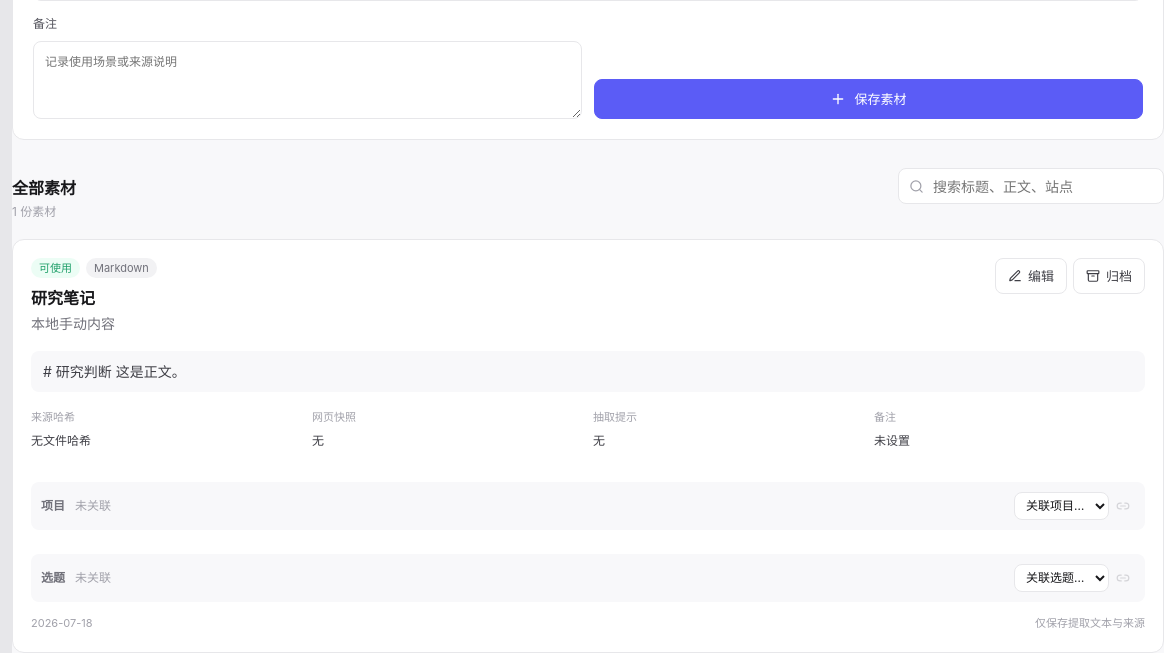
MaterialWorkspace › links a material to both contexts and archives it explicitly
The image size is (1164, 653).
(page scrolled)
Select "创作项目" in the dropdown named "为 研究笔记 选择项目" at (1062, 506), box [1014, 492, 1109, 520]
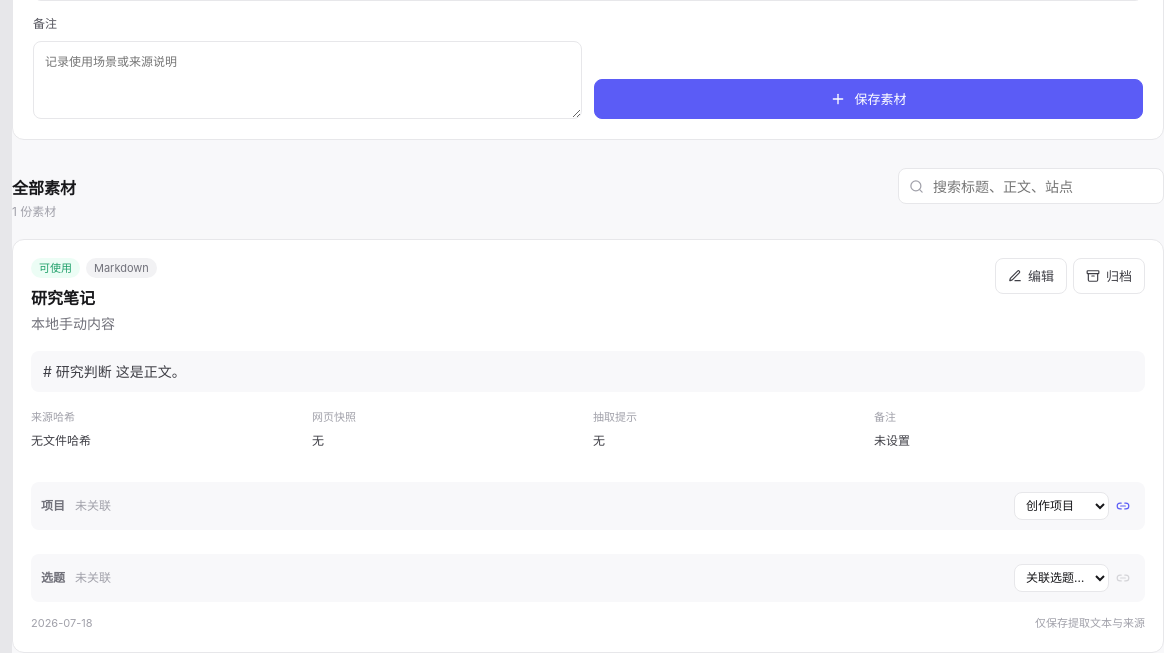
Click the button named "关联项目".
click(1123, 506)  # box [1111, 494, 1135, 518]
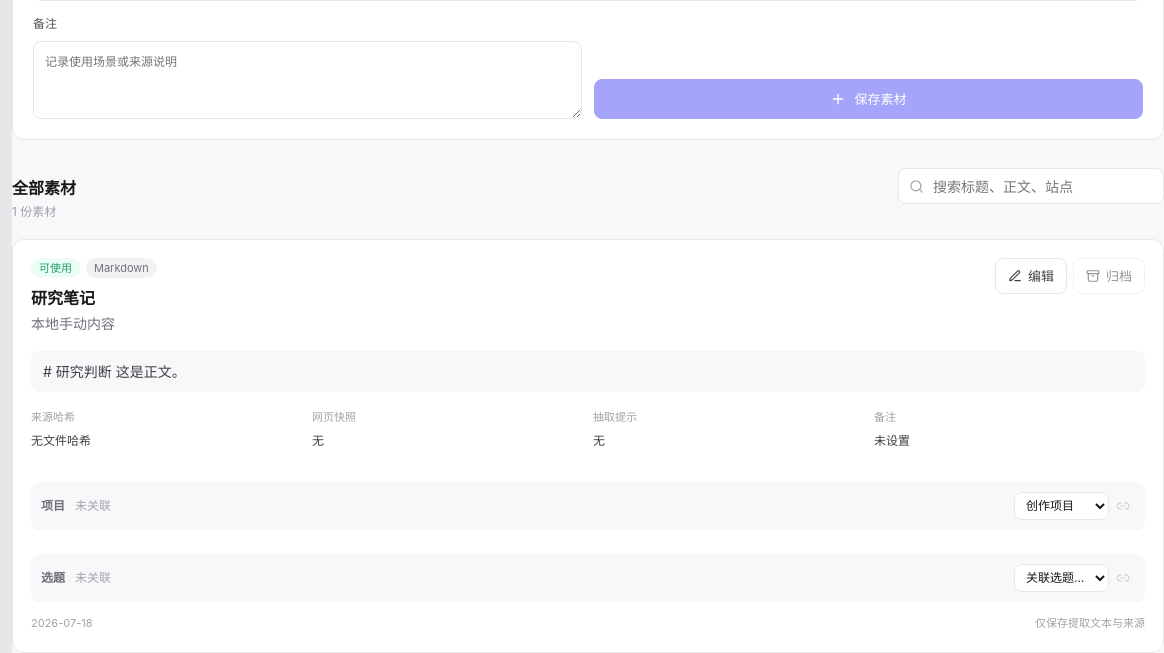
Select "核心选题" in the dropdown named "为 研究笔记 选择选题" at (1062, 578), box [1014, 564, 1109, 592]
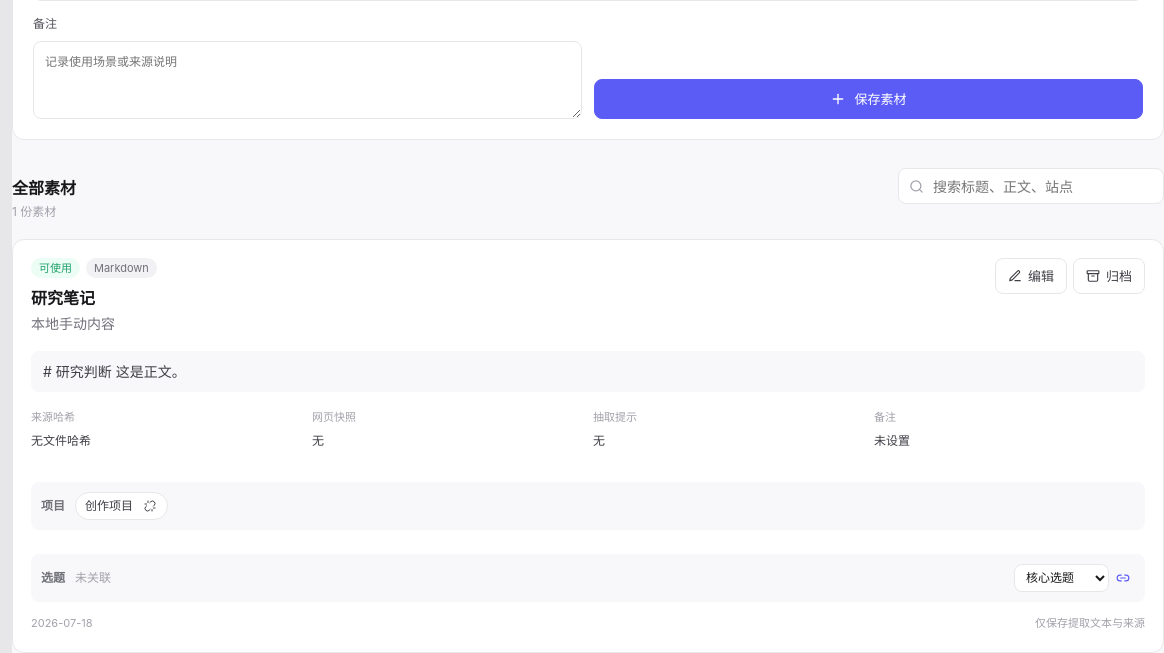
Click the button named "关联选题".
click(1123, 578)  # box [1111, 566, 1135, 590]
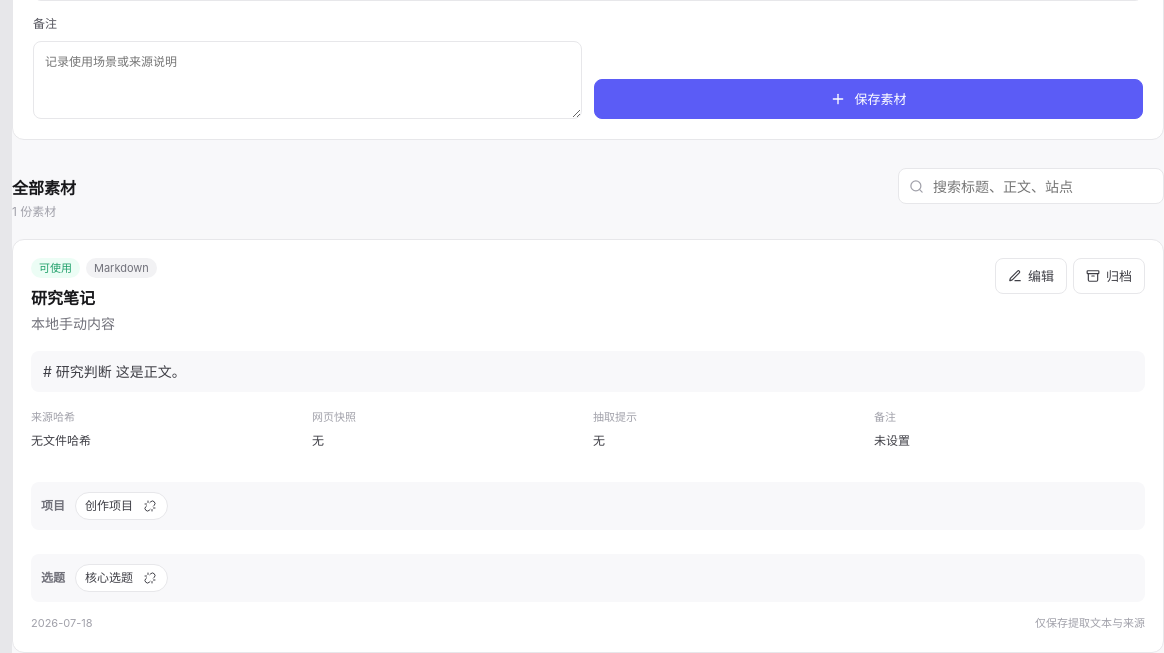
Expected: the text "核心选题" is shown, [75, 564, 168, 592]
Click the button "归档".
click(1109, 276)  # box [1073, 258, 1145, 294]
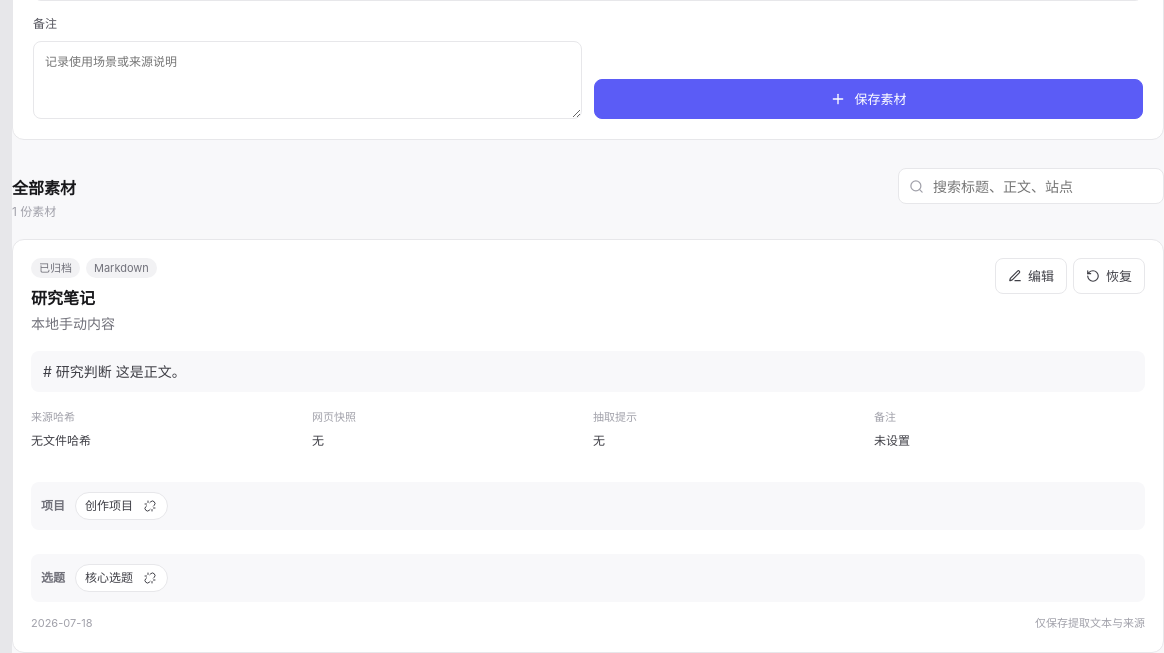
Expected: the text "已归档" is shown, [31, 258, 80, 278]
